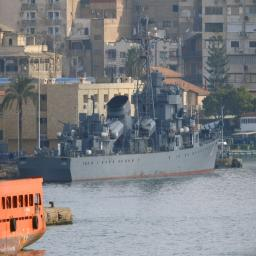Fragata: (16, 6, 226, 188)
